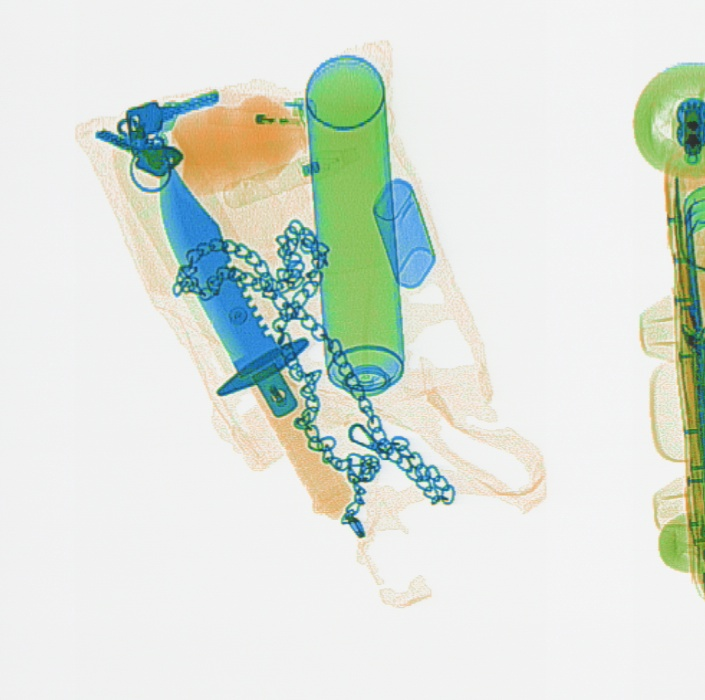knife: (154, 145, 357, 522)
lighter: (199, 86, 321, 134)
pressure: (303, 52, 408, 400)
